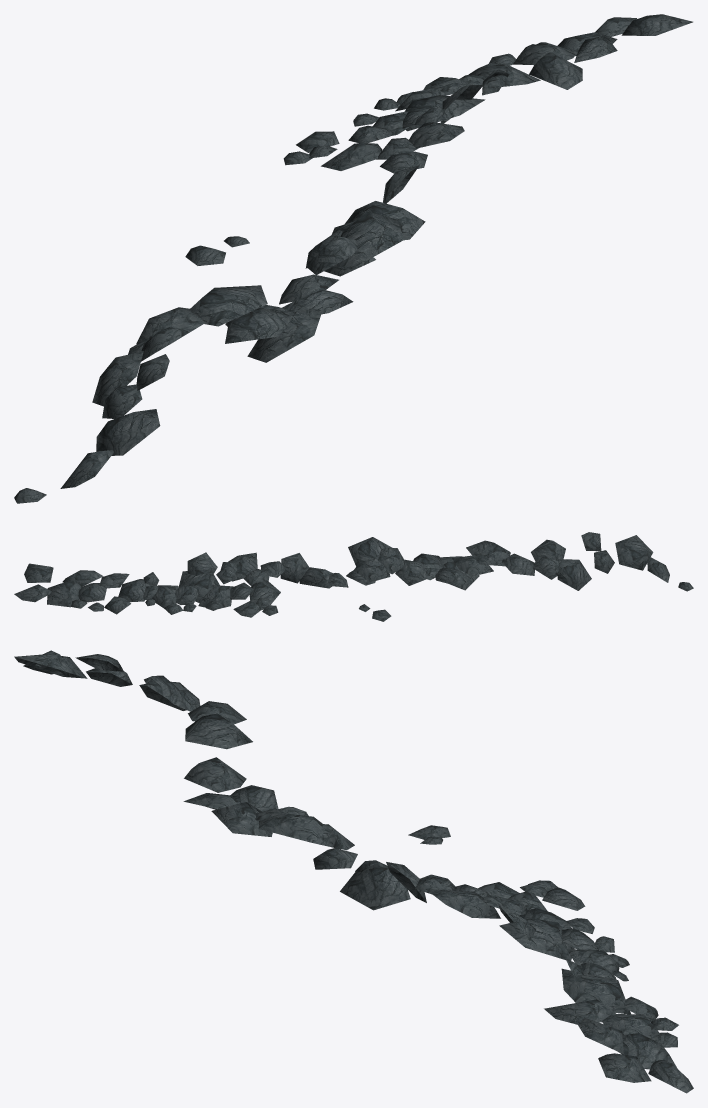
Rendered from Bf_hill_add_01.fbx.
3 views of the same model, one above another, from view 1: azimuth 30°, elevation 25°; view 2: azimuth 150°, elevation 25°; view 3: azimuth 270°, elevation 25° (orthographic). The views are drawn at different scales.
Visible parts, largest first — view 1: Bf_hill_add_01; view 2: Bf_hill_add_01; view 3: Bf_hill_add_01.
Part boxes in pixels (x1=…): Bf_hill_add_01: x1=14, y1=14, x2=692, y2=503; Bf_hill_add_01: x1=14, y1=532, x2=693, y2=621; Bf_hill_add_01: x1=14, y1=650, x2=693, y2=1093.
Bounding box in the file's own units: 77.1 × 6.96 × 49.35.
Materials: 1 (1 with a texture image).
